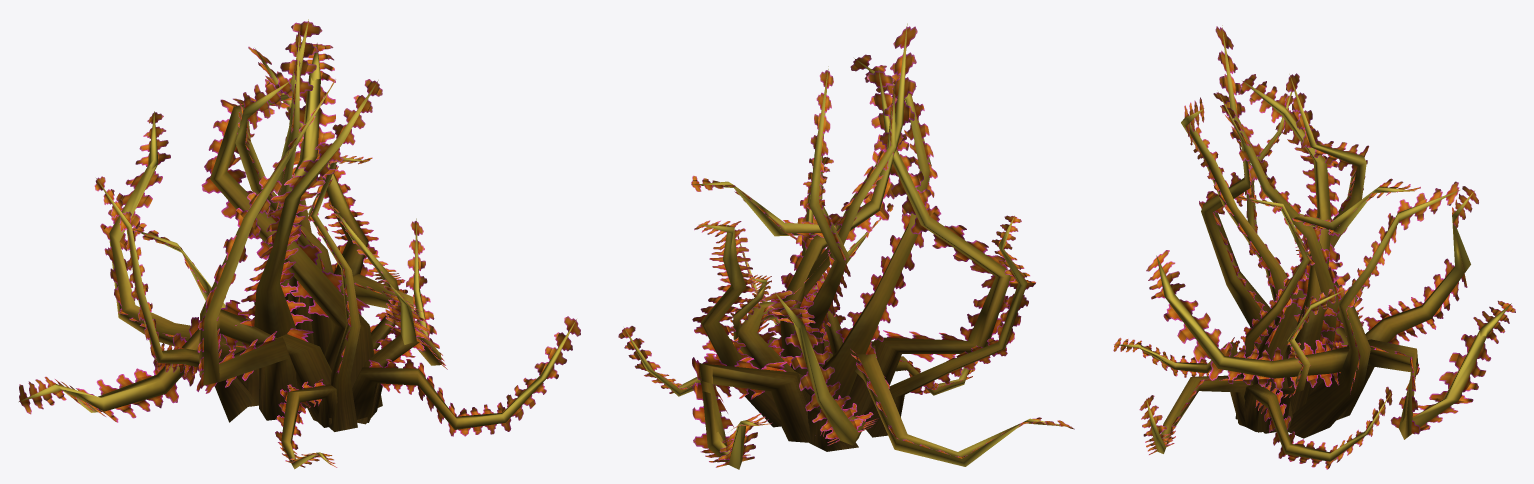
Rendered from n_SWFgogra02a.glb.
The picture shows the model from 3 angles, left to right: view 1: azimuth 30°, elevation 25°; view 2: azimuth 150°, elevation 25°; view 3: azimuth 270°, elevation 25°; orthographic projection. The views are drawn at different scales.
Visible parts, largest first — view 1: n_SWFgogra02a; view 2: n_SWFgogra02a; view 3: n_SWFgogra02a.
Boxes of the visible parts, x1,y1,x2,y2 form: n_SWFgogra02a: (19,19,580,469); n_SWFgogra02a: (618,23,1074,469); n_SWFgogra02a: (1113,25,1515,469).
Bounding box in the file's own units: 1.21 × 1.07 × 1.05.
5 materials, 5 textured.
